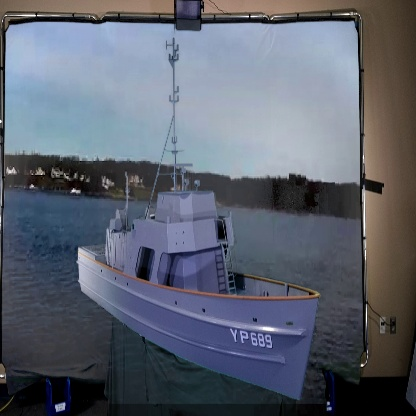YP689: (78, 42, 321, 402)
